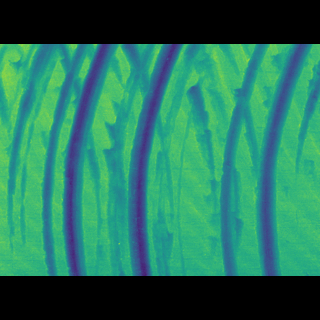Loch: (0, 75, 187, 246), (248, 75, 315, 243), (215, 75, 274, 244), (181, 100, 221, 185), (289, 85, 320, 170)
